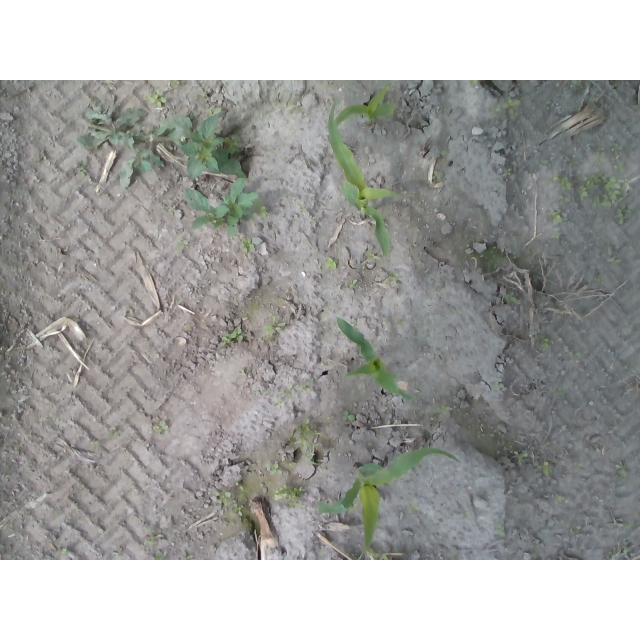Maize: (318, 447, 463, 553), (325, 102, 408, 255), (335, 317, 414, 402)
Weeds: (77, 104, 168, 192), (159, 108, 249, 179), (183, 178, 260, 239), (578, 174, 634, 225), (594, 143, 627, 173), (293, 418, 317, 451), (220, 490, 244, 514), (273, 485, 304, 503), (145, 538, 169, 560), (495, 95, 521, 114), (262, 316, 286, 335), (553, 174, 575, 191), (221, 328, 243, 345), (147, 92, 168, 109), (383, 271, 401, 285), (239, 239, 257, 253), (549, 209, 565, 224), (501, 290, 516, 306), (341, 407, 356, 422), (515, 449, 530, 463), (255, 202, 269, 216), (176, 237, 189, 252), (153, 420, 167, 433), (557, 195, 571, 208), (323, 257, 337, 269), (539, 335, 551, 349), (269, 462, 283, 474), (541, 461, 552, 476), (344, 277, 357, 289), (430, 169, 443, 181), (439, 405, 452, 416), (375, 552, 390, 561), (467, 80, 482, 88), (169, 80, 180, 90), (551, 232, 561, 241), (503, 168, 511, 176)
